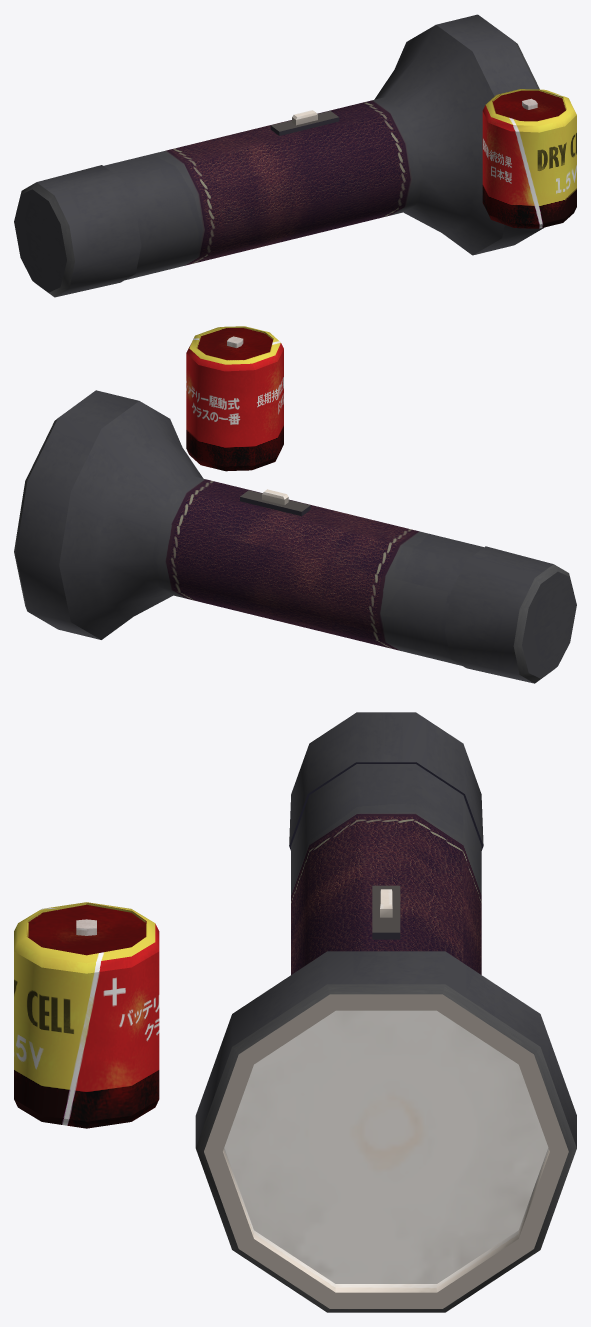
Rendered from FlashLight_and_Battery.glb.
3 renders of one model, top to bottom at view 1: azimuth 30°, elevation 25°; view 2: azimuth 150°, elevation 25°; view 3: azimuth 270°, elevation 25°, orthographic. The views are drawn at different scales.
Visible parts, largest first — view 1: flashLight, flashLightCover, battery; view 2: flashLight, flashLightCover, battery; view 3: flashLight, battery, flashLightCover.
Part boxes in pixels (bbox=[...]): flashLight: bbox=[104, 14, 543, 280]; flashLightCover: bbox=[14, 165, 141, 297]; battery: bbox=[482, 89, 576, 228]; flashLight: bbox=[14, 390, 483, 665]; flashLightCover: bbox=[445, 546, 576, 683]; battery: bbox=[186, 326, 283, 471]; flashLight: bbox=[195, 764, 576, 1312]; battery: bbox=[14, 902, 159, 1128]; flashLightCover: bbox=[289, 712, 483, 850].
Size of the model in its own units: 4.49 by 1.98 by 2.96.
Materials: 2 (2 with a texture image).
